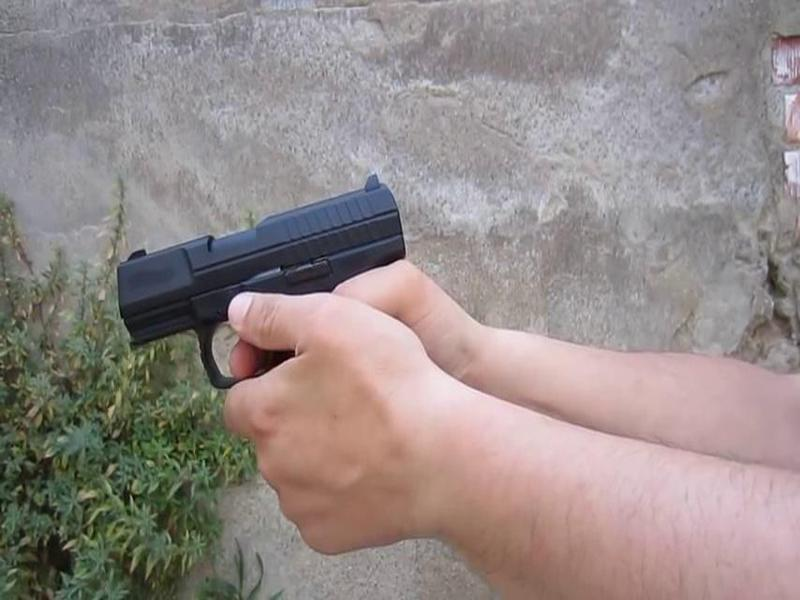Pistola: (94, 167, 427, 404)
